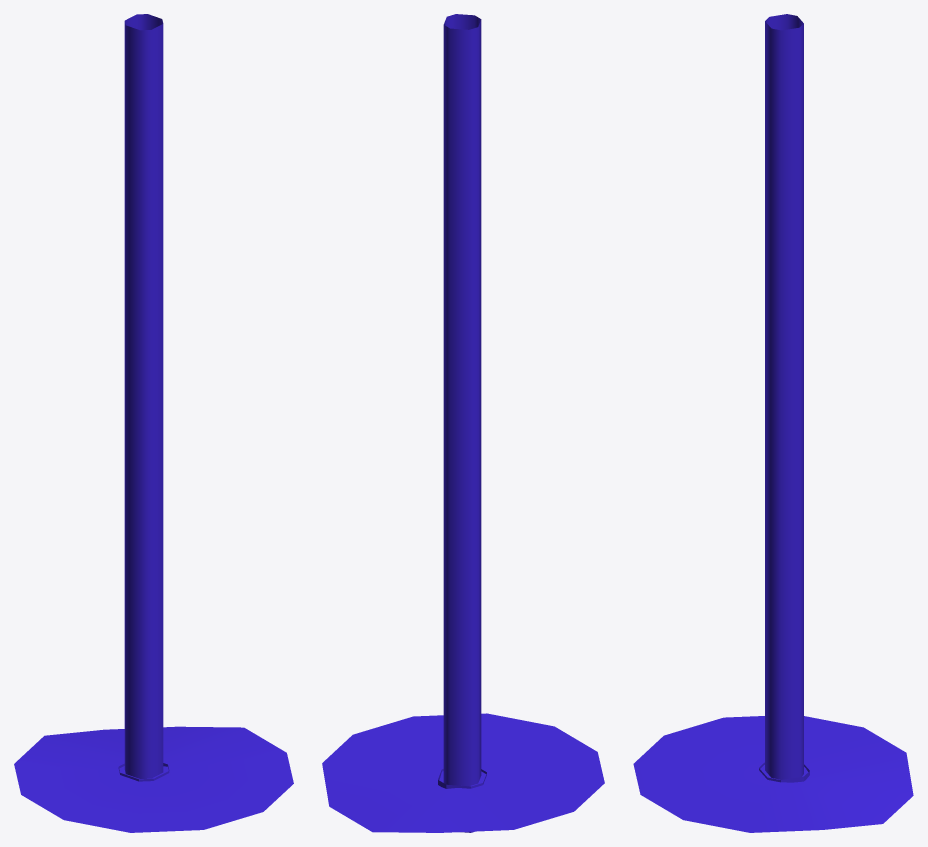
File: RoofBolt.fbx
The picture shows the model from 3 angles, left to right: view 1: azimuth 30°, elevation 25°; view 2: azimuth 150°, elevation 25°; view 3: azimuth 270°, elevation 25°; orthographic projection.
Parts seen in each view (by area): view 1: Roof bolt_004.016; view 2: Roof bolt_004.016; view 3: Roof bolt_004.016.
Boxes of the visible parts, box(x1,y1,x2,y2) form: Roof bolt_004.016: box(14, 14, 293, 832); Roof bolt_004.016: box(322, 14, 604, 832); Roof bolt_004.016: box(633, 14, 913, 832).
Bounding box in the file's own units: 13.69 × 42.75 × 13.69.
